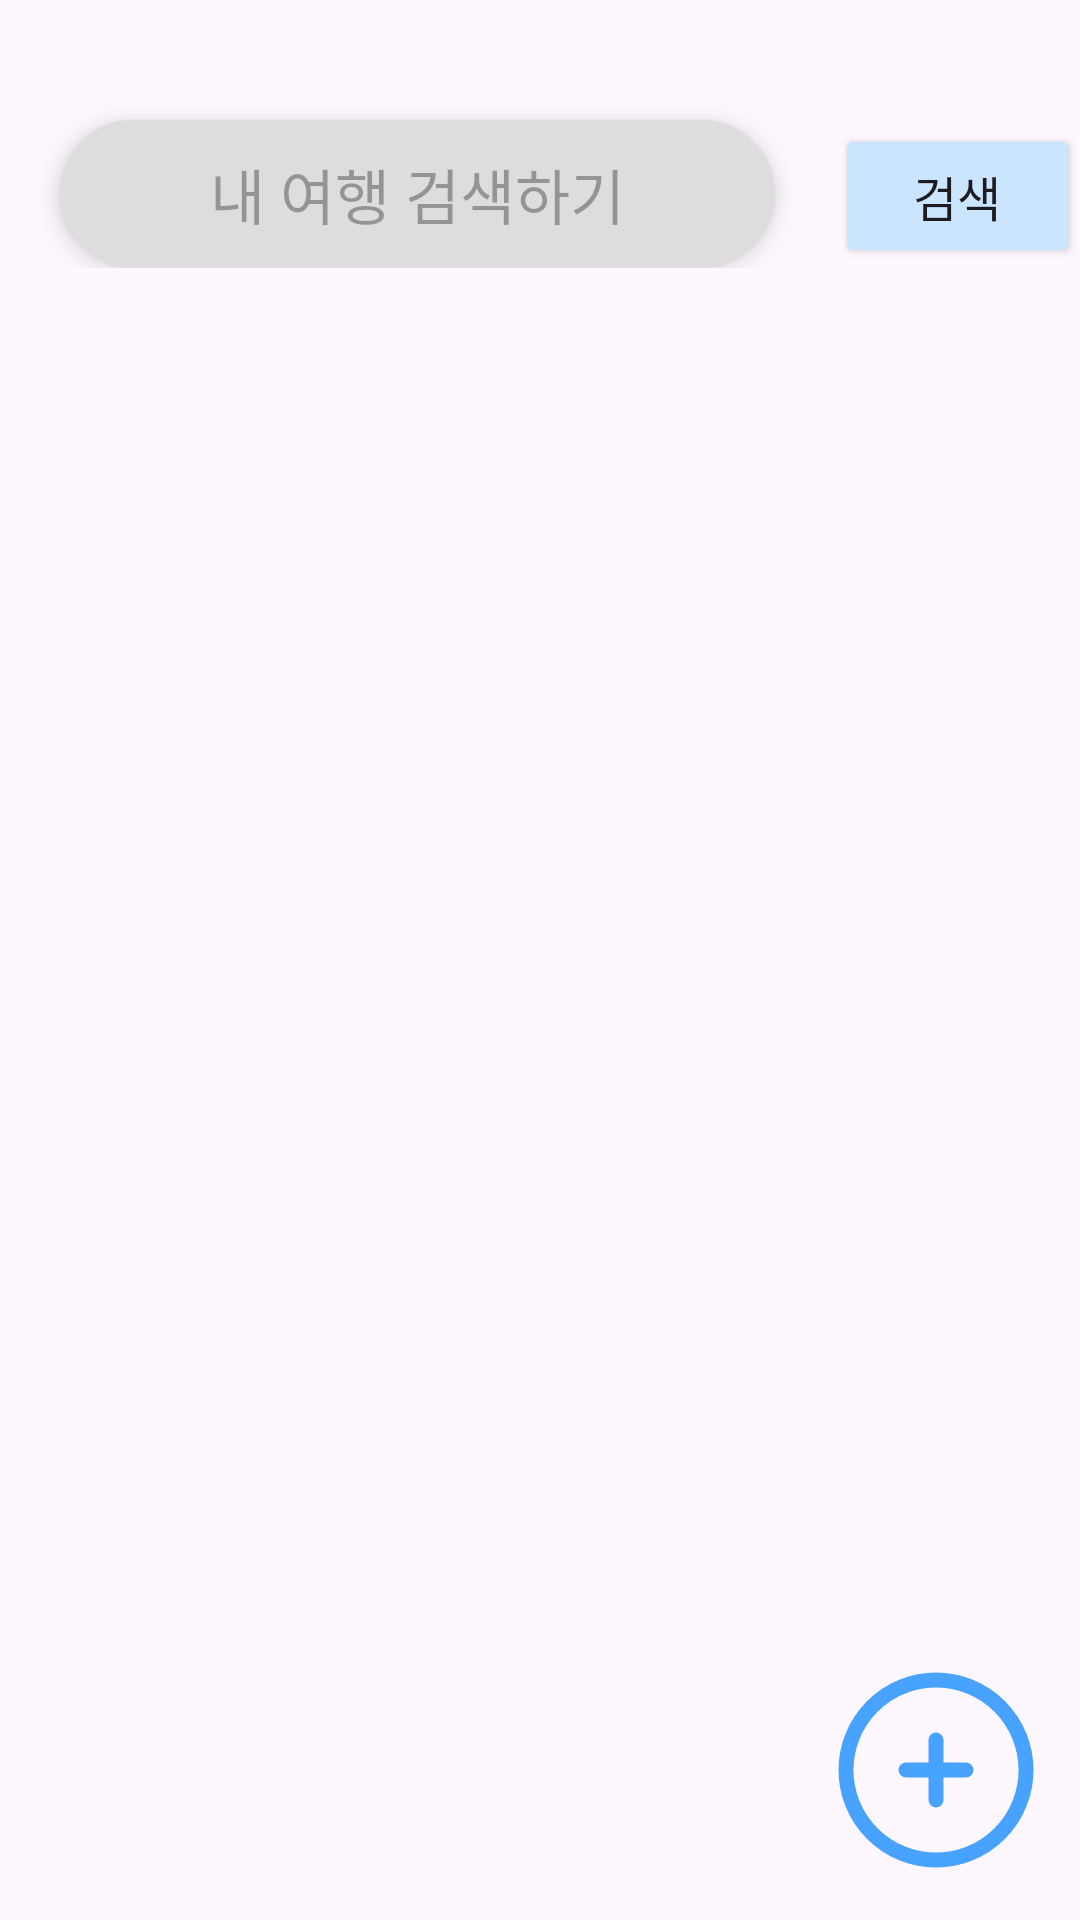

Where icons sit on this 1080px x 1920px app screen, as (x1, y1, x2, y2):
hero circleplus resize: (838, 1672, 1034, 1868)
